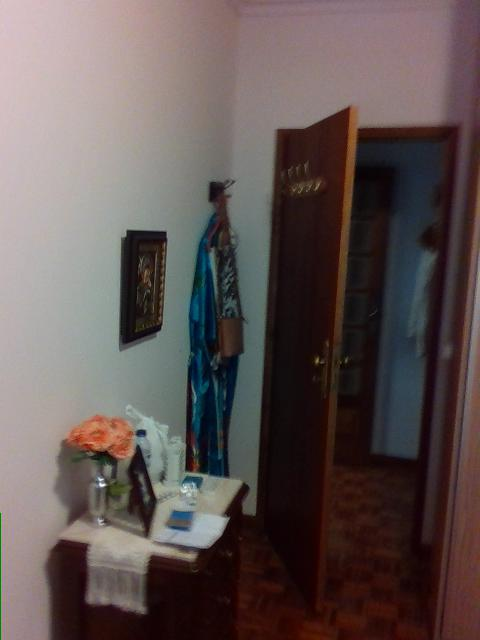semi_door: (255, 102, 463, 621)
